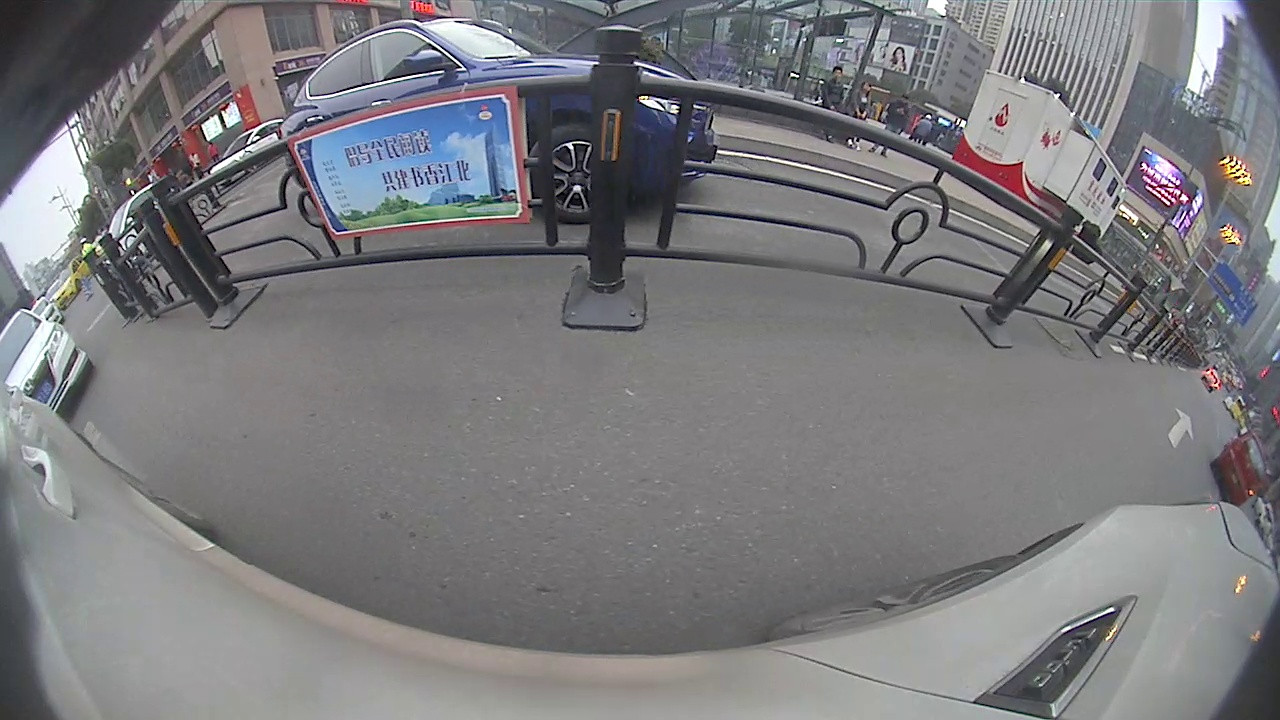car: (277, 17, 718, 228), (1, 310, 92, 412), (1209, 432, 1269, 506)
front: (526, 122, 602, 223)
